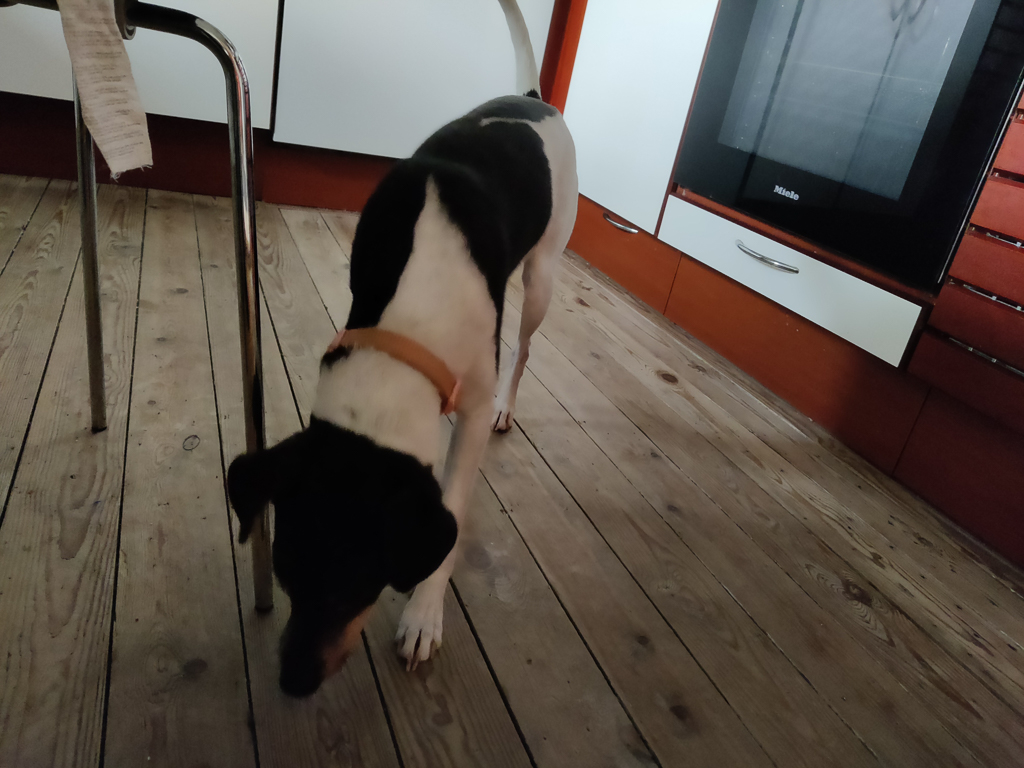Dog: (203, 0, 625, 725)
